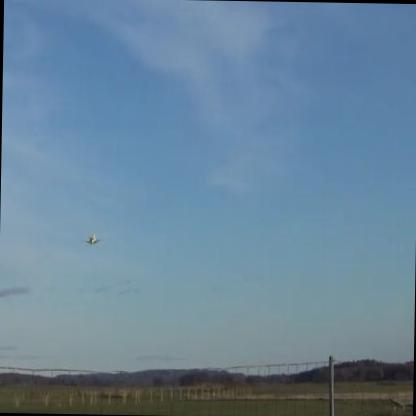plane: (84, 232, 102, 245)
